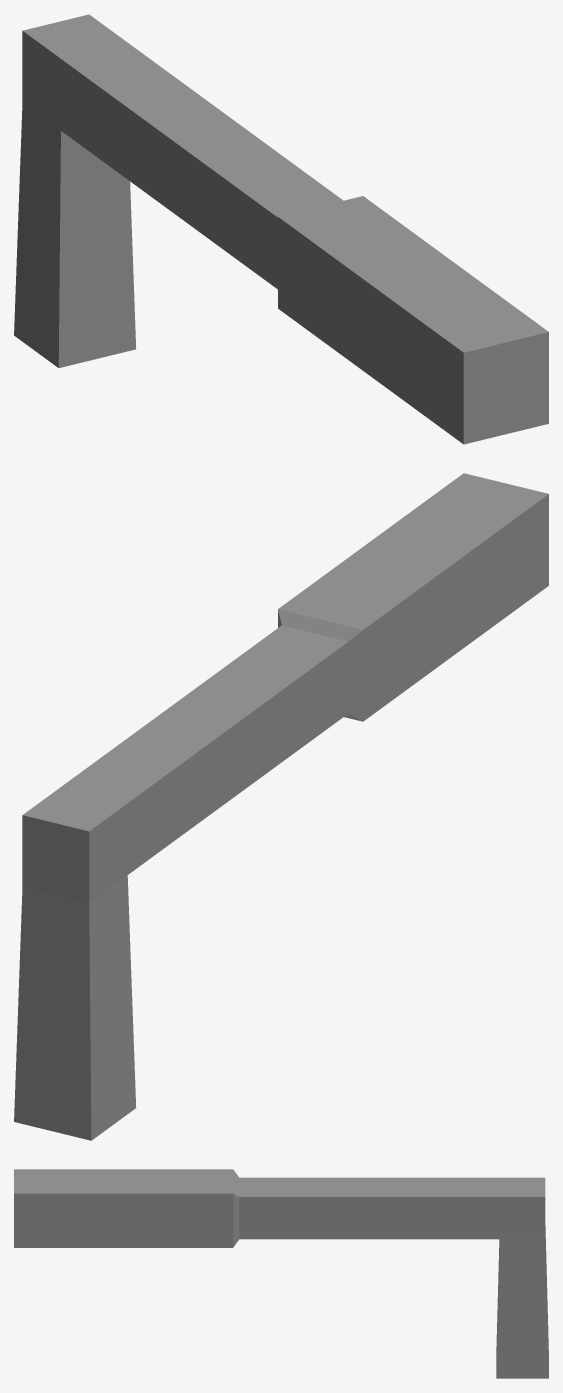
The model's file is keylcok 2.fbx.
3 views of the same model, one above another, from view 1: azimuth 30°, elevation 25°; view 2: azimuth 150°, elevation 25°; view 3: azimuth 270°, elevation 25° (orthographic). The views are drawn at different scales.
Visible parts, largest first — view 1: pCube16; view 2: pCube16; view 3: pCube16.
Part boxes in pixels (left/top/right/bottom): pCube16: left=14, top=14, right=548, bottom=444; pCube16: left=14, top=473, right=548, bottom=1140; pCube16: left=14, top=1169, right=548, bottom=1378.
Bounding box in the file's own units: 0.5504 × 1.95 × 5.08.
